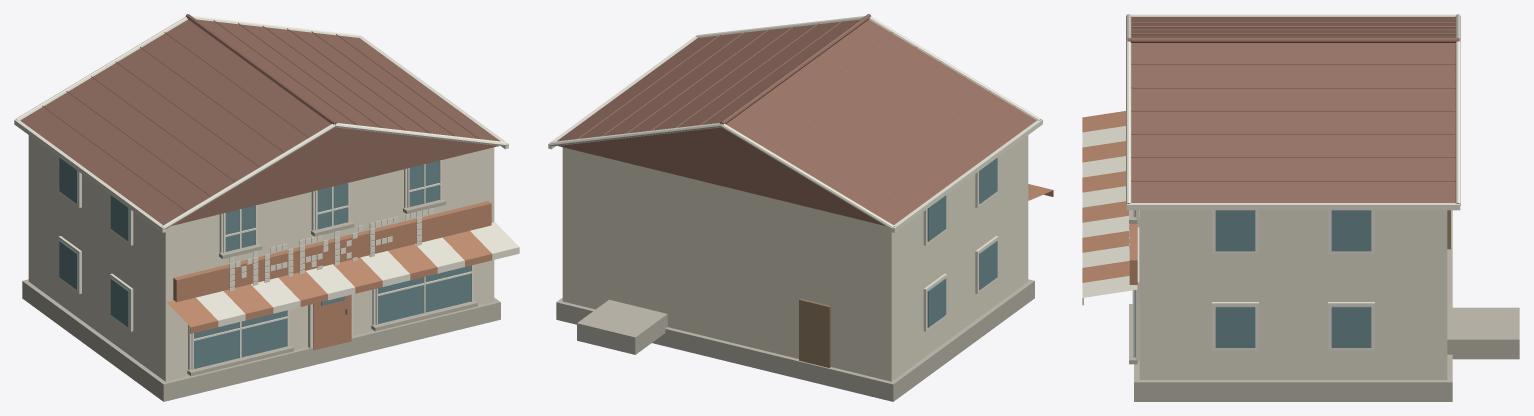
3 views of the same model, side by side, from view 1: azimuth 30°, elevation 25°; view 2: azimuth 150°, elevation 25°; view 3: azimuth 270°, elevation 25° (orthographic). The views are drawn at different scales.
Bounding box in the file's own units: 12.43 × 8.27 × 12.09.
